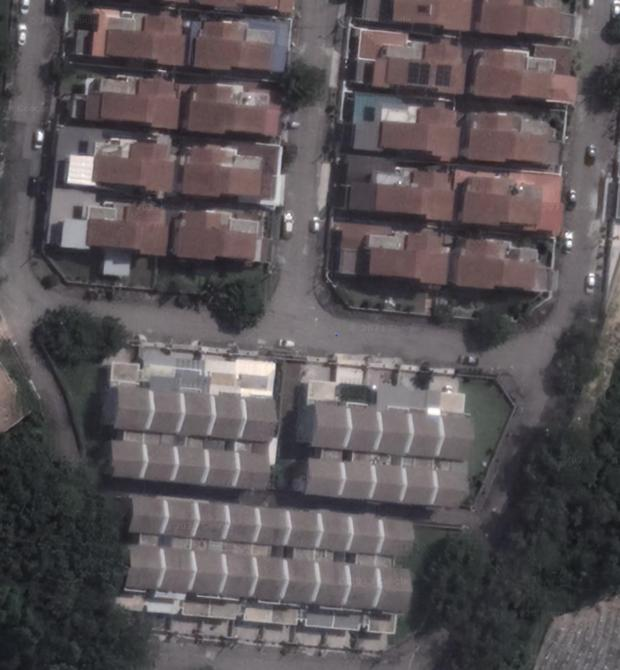building: (454, 174, 559, 230), (82, 71, 181, 130), (456, 237, 555, 296), (347, 167, 457, 220), (471, 48, 571, 105), (173, 202, 264, 262), (467, 113, 559, 172), (86, 135, 172, 198), (83, 198, 168, 261), (299, 398, 350, 501), (468, 0, 576, 47), (190, 83, 281, 138), (375, 41, 462, 98), (178, 145, 269, 199), (103, 13, 186, 68), (124, 492, 170, 590), (362, 233, 450, 284), (194, 21, 273, 73), (222, 500, 260, 608), (374, 108, 456, 157), (434, 407, 471, 515), (379, 515, 416, 623), (178, 385, 217, 487), (377, 400, 413, 510), (109, 383, 151, 477), (161, 497, 200, 597), (285, 505, 321, 613), (191, 499, 228, 603), (344, 399, 380, 505), (208, 393, 248, 488), (346, 515, 383, 617), (405, 406, 439, 514), (317, 511, 351, 615), (238, 395, 273, 496), (259, 503, 292, 606), (149, 385, 184, 481), (387, 0, 473, 35)
